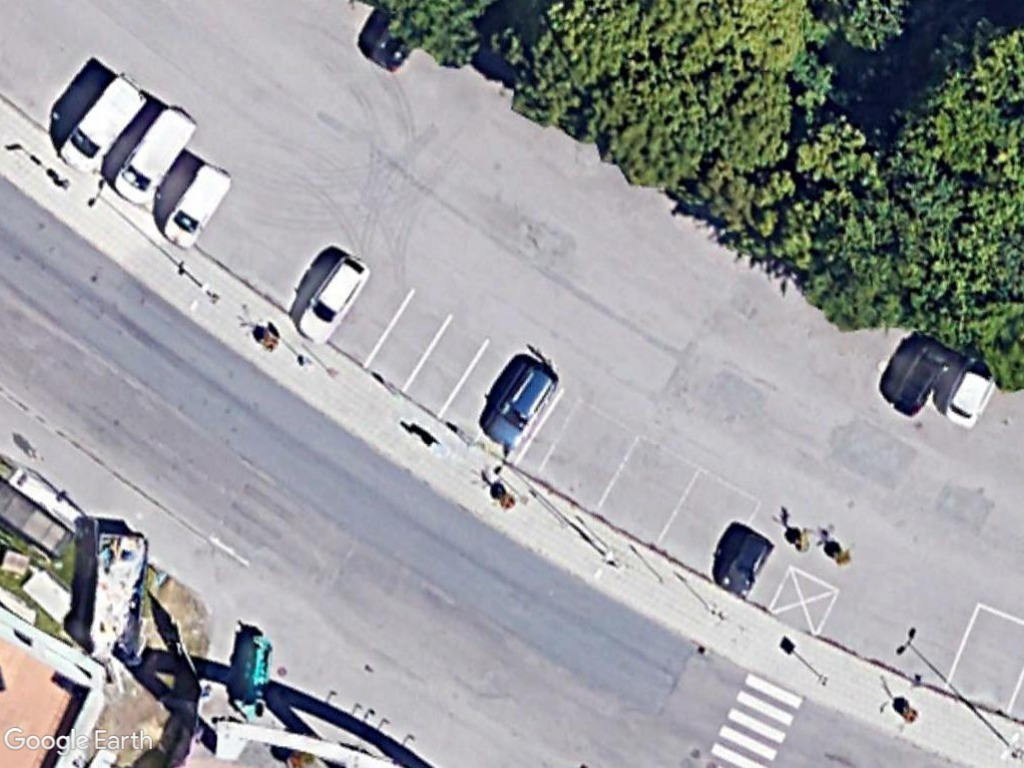car: (294, 246, 374, 349), (483, 361, 565, 452), (717, 521, 777, 600)
van: (107, 104, 205, 210), (57, 71, 156, 173), (156, 157, 233, 255)
